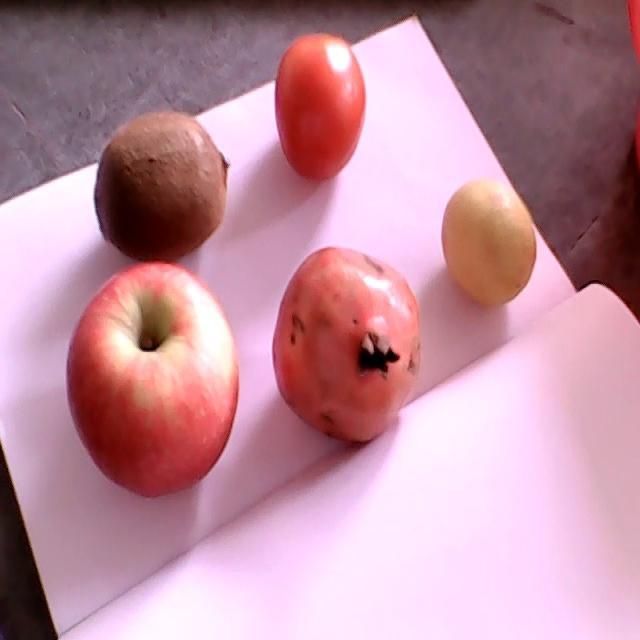apple: (66, 260, 239, 499)
kiwi: (94, 109, 230, 263)
lemon: (442, 181, 535, 303)
pomegranate: (271, 247, 420, 442)
tomato: (274, 34, 366, 182)
